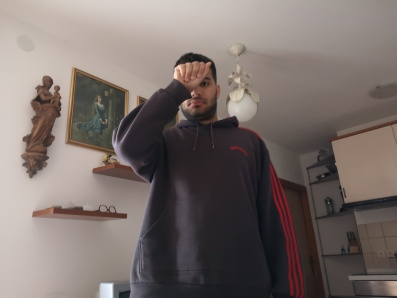A: (172, 60, 213, 89)
